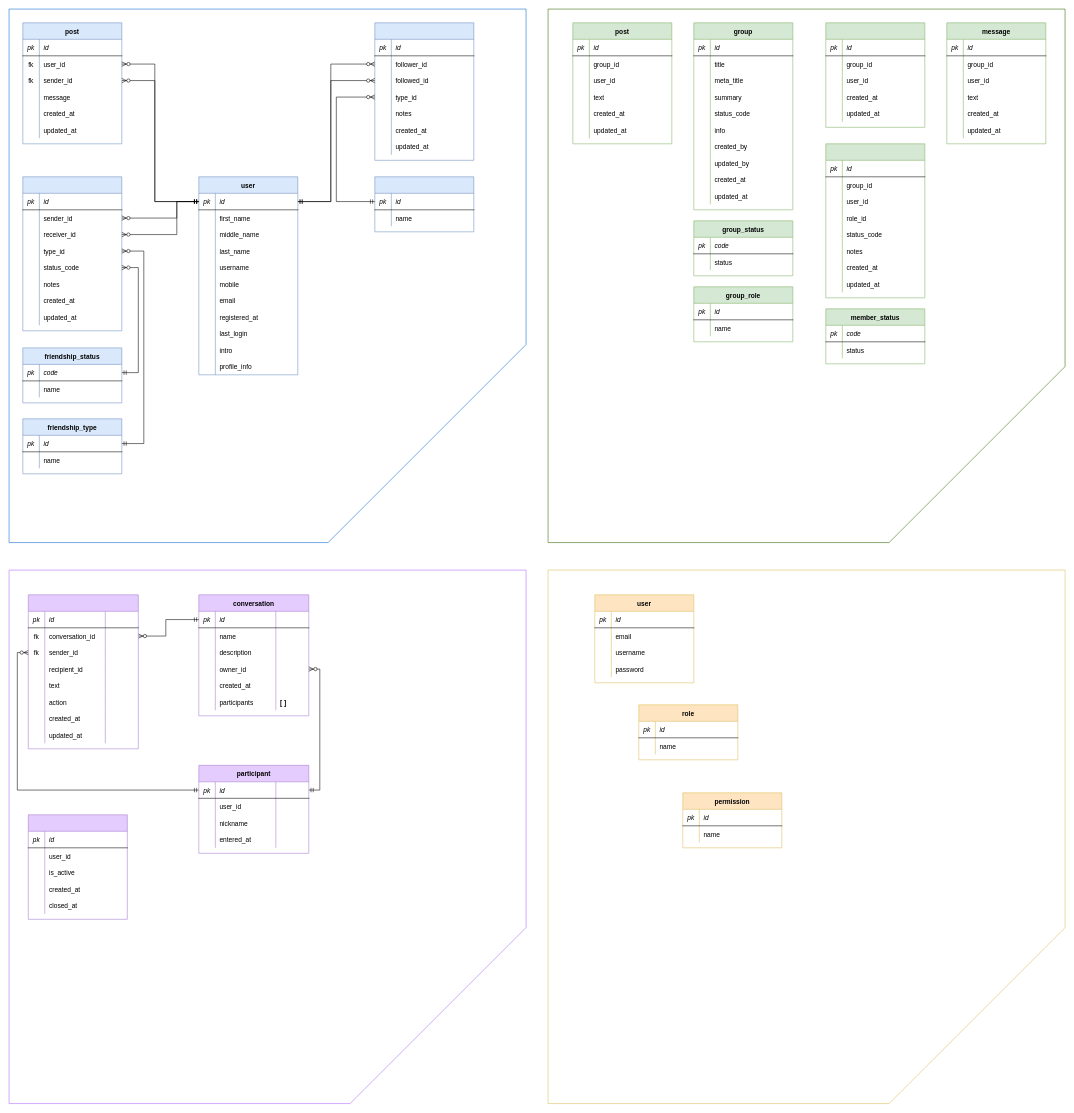
The diagram is 1074 pixels wide and 1113 high, and some of its shapes have lost their labels. The shapes that lost their labels are listed below. From the top down, each one's box as (x1, y1, x2, y2) in pixels, then its label:
(374, 22, 474, 160): followship
(825, 22, 925, 127): follower
(374, 176, 474, 232): followship_type
(825, 143, 925, 298): member
(22, 176, 122, 331): friendship
(28, 594, 138, 749): broadcast_message
(28, 814, 127, 919): session
